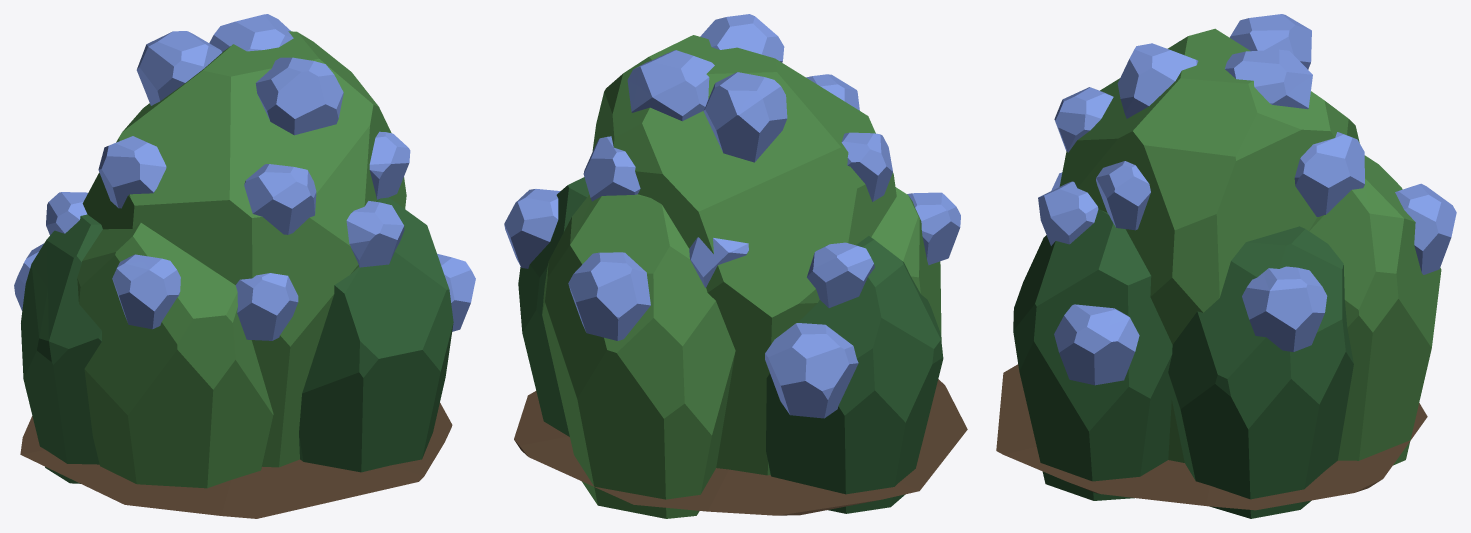
Rendered from asset.glb.
3 views of the same model, side by side, from view 1: azimuth 30°, elevation 25°; view 2: azimuth 150°, elevation 25°; view 3: azimuth 270°, elevation 25° (orthographic). The views are drawn at different scales.
Parts seen in each view (by area): view 1: leaves-0, leaves-1, leaves-3, leaves-4, soil, flower-7, flower-8, flower-12, flower-6, flower-14, flower-2, flower-3 (+5 smaller); view 2: leaves-0, leaves-2, leaves-4, soil, flower-0, flower-6, flower-4, leaves-5, flower-15, leaves-1, flower-5, flower-9 (+6 smaller); view 3: leaves-0, leaves-5, leaves-3, leaves-2, soil, flower-9, flower-11, flower-13, flower-15, flower-7, flower-4, flower-10 (+3 smaller).
Part boxes in pixels (x1,y1,x2,y2): leaves-0: (82, 31, 406, 467); leaves-1: (77, 223, 273, 488); leaves-3: (299, 197, 453, 472); leaves-4: (21, 214, 102, 483); soil: (20, 403, 452, 518); flower-7: (255, 57, 343, 135); flower-8: (112, 254, 180, 329); flower-12: (244, 164, 316, 234); flower-6: (136, 31, 222, 105); flower-14: (235, 273, 298, 340); flower-2: (98, 136, 166, 208); flower-3: (346, 201, 404, 267); leaves-0: (592, 35, 896, 475); leaves-2: (542, 194, 735, 518); leaves-4: (766, 236, 943, 513); soil: (514, 379, 967, 515); flower-0: (765, 323, 858, 418); flower-6: (703, 72, 787, 162); flower-4: (568, 252, 650, 340); leaves-5: (518, 177, 589, 436); flower-15: (627, 50, 714, 121); leaves-1: (871, 187, 941, 340); flower-5: (807, 242, 874, 307); flower-9: (504, 189, 560, 268); leaves-0: (1059, 28, 1359, 462); leaves-5: (1168, 226, 1353, 518); leaves-3: (1013, 209, 1172, 500); leaves-2: (1309, 155, 1441, 465); soil: (996, 364, 1427, 510); flower-9: (1242, 266, 1327, 351); flower-11: (1054, 304, 1139, 385); flower-13: (1294, 132, 1364, 216); flower-15: (1225, 49, 1312, 109); flower-7: (1117, 43, 1198, 118); flower-4: (1395, 183, 1456, 274); flower-10: (1096, 161, 1150, 230).
Bounding box in the file's own units: 1.18 × 1.14 × 1.18.
